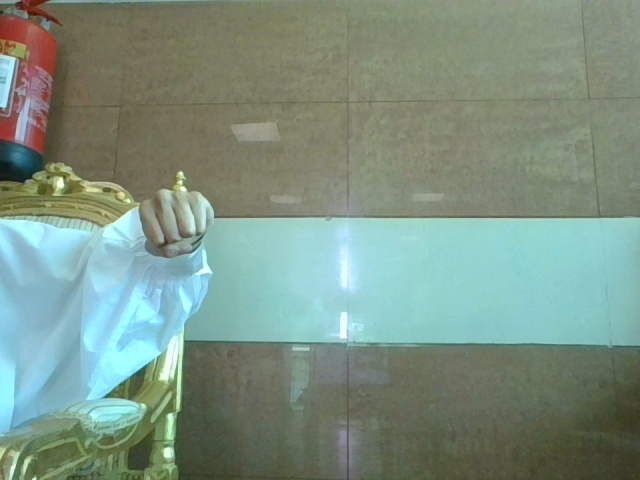Yes: (107, 150, 262, 293)
